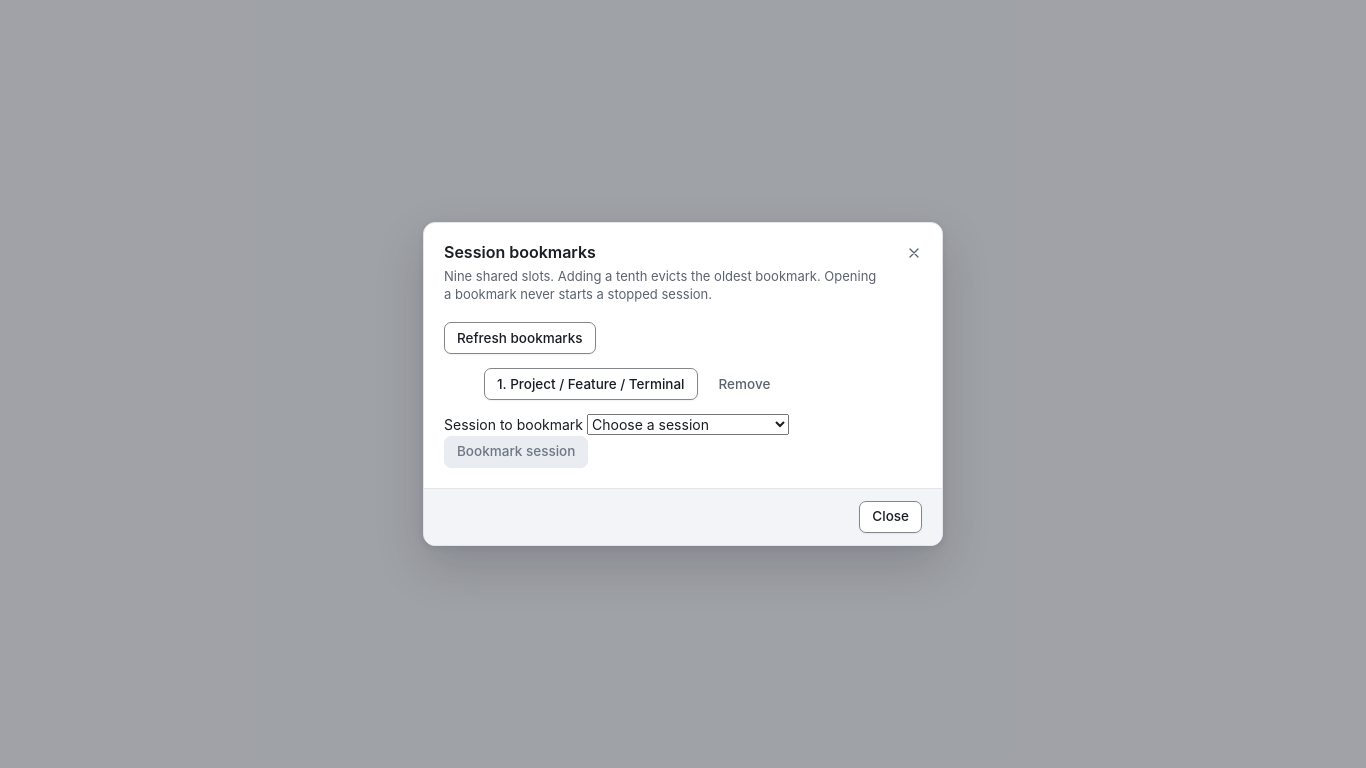
retains picker on stale resolution and refreshes after pruning
This screenshot has width=1366, height=768.
Click the button "1. Project / Feature / Terminal" at (591,384), box [484,368,698,400]
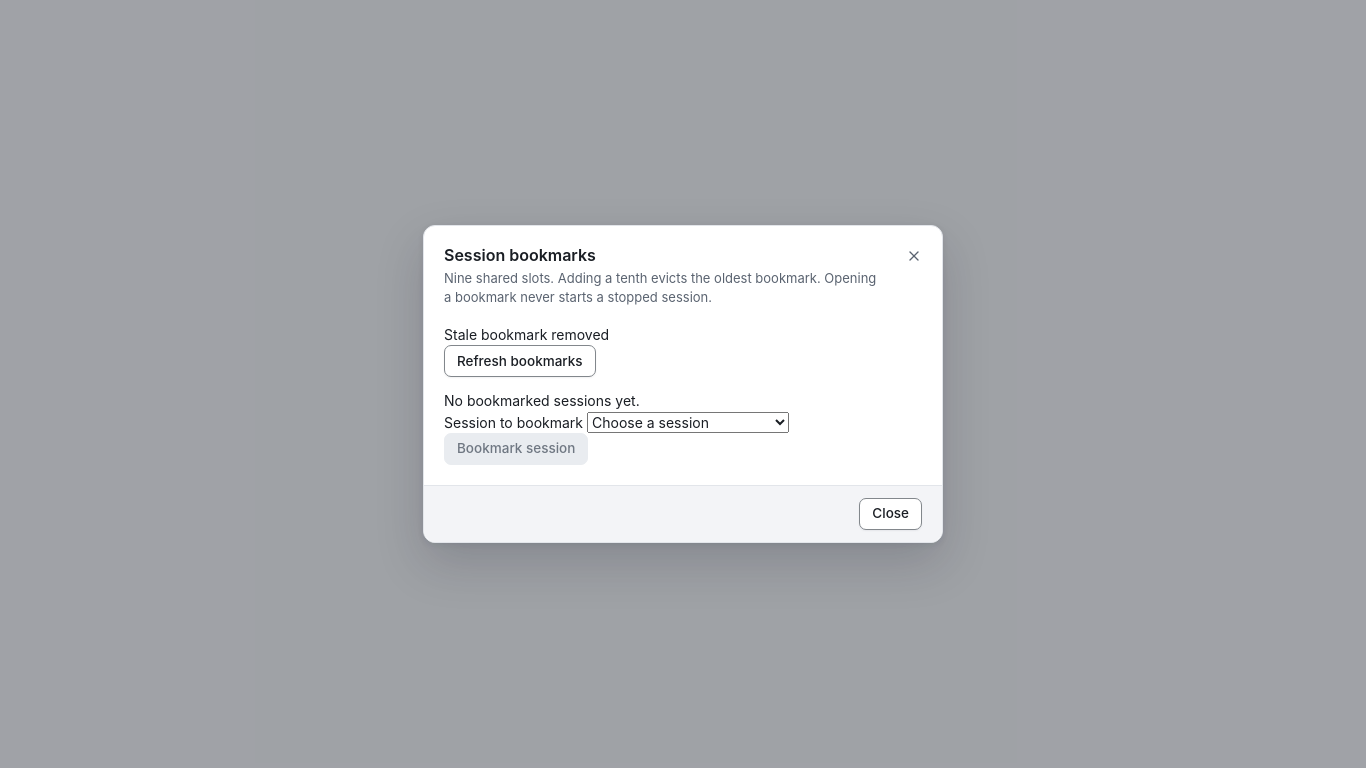
Expected: the message reads "Stale bookmark removed", [444,326,609,343]
Expected: the text "No bookmarked sessions yet." is shown, [444,392,640,409]
